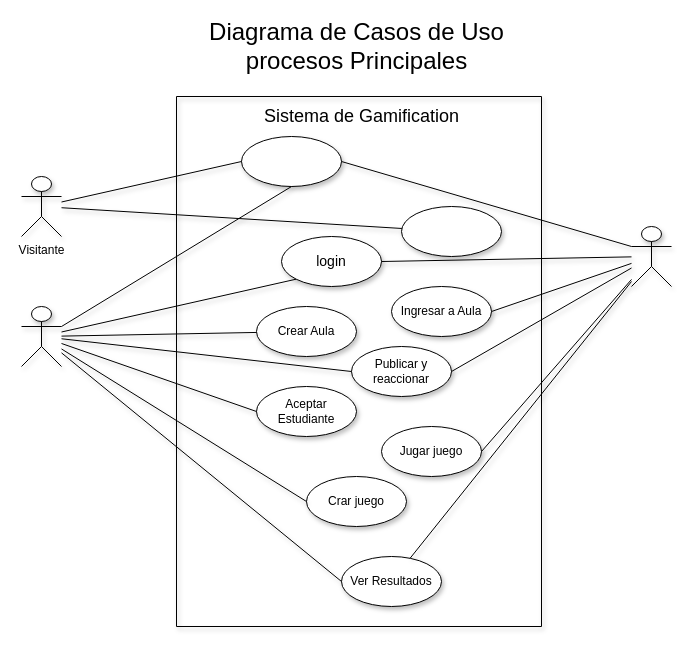
Some shapes in this 697 by 651 pixel diagram are drawn without their labels. The shapes that lost their labels are listed below. From the top down, each one's centre as x and y in pixels, then its label:
pixel 292 163: Visualizar info General
pixel 452 233: Registrarse
pixel 652 258: Estudiante
pixel 42 338: Docente
